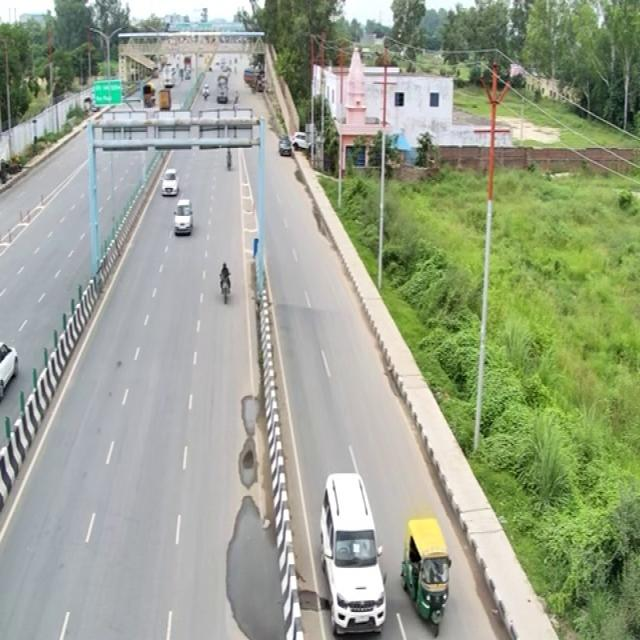car: (315, 464, 386, 637), (1, 332, 19, 401), (170, 192, 197, 237), (156, 164, 181, 197)
